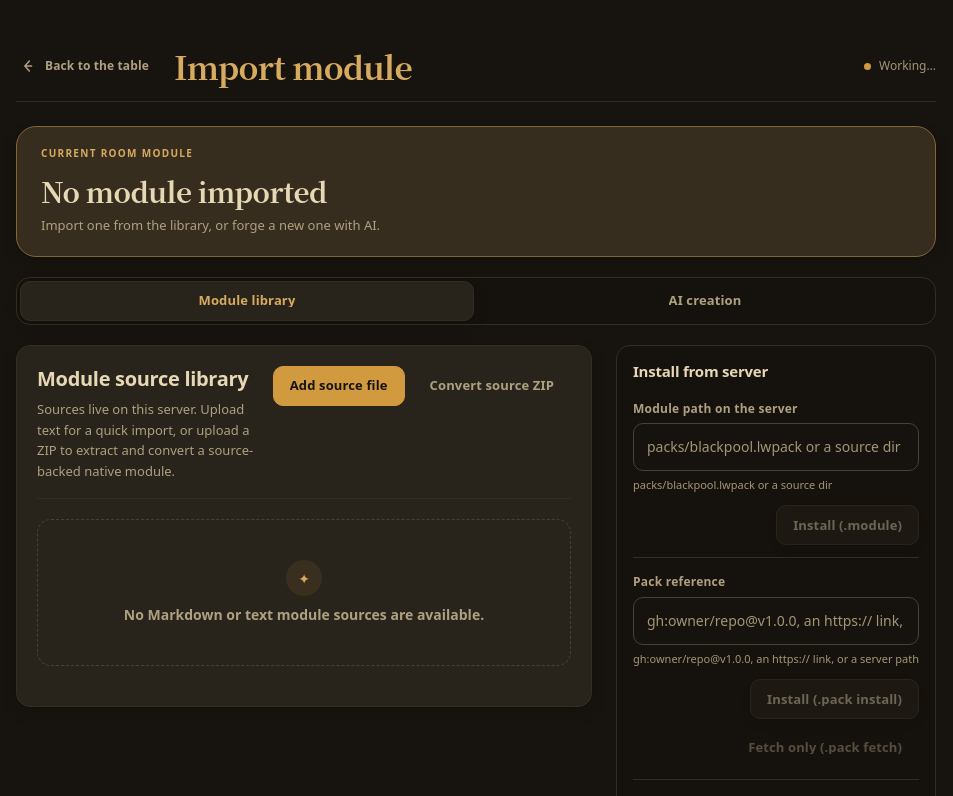
Scenario: ModuleScreen — community packs › says the fetch went out once the send has resolved
The image size is (953, 796).
Type "gh:1A7432/antu@v1.0.0" into the field labelled "Pack reference" at x=776, y=621, box [633,597,919,645]
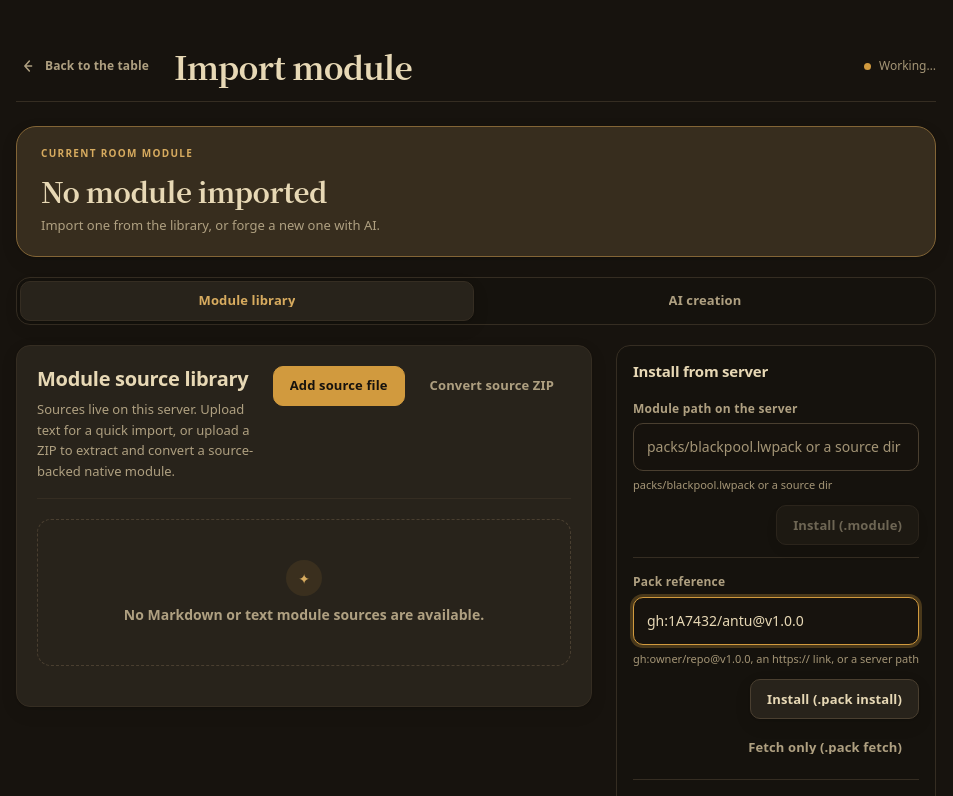
Click the button "Fetch only (.pack fetch)" at x=825, y=747, box [731,727,919,767]
(page scrolled)
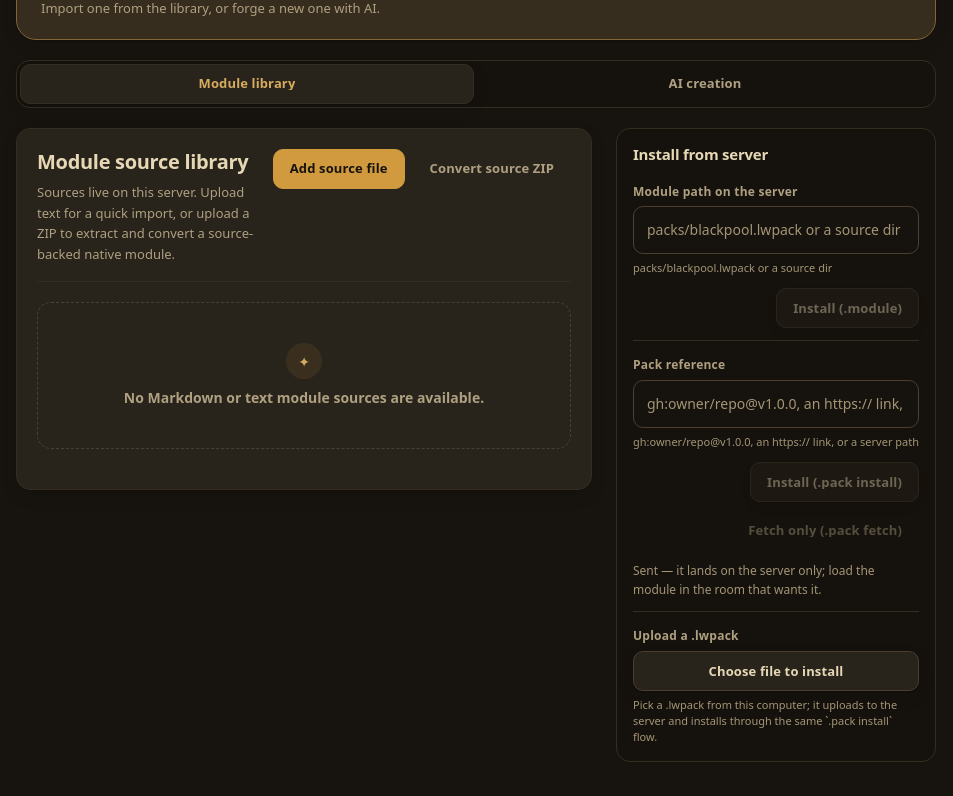
Check: the text "lands on the server only" is shown, box [633,562,875,598]
